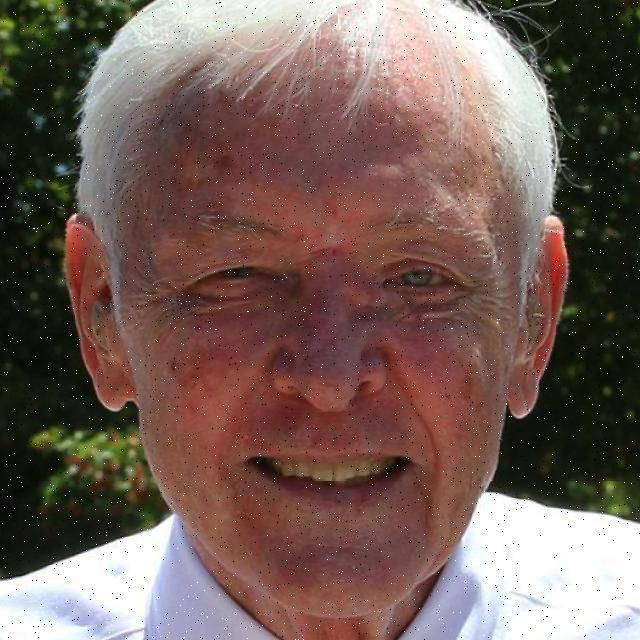puffy_eyes: (195, 286, 286, 309), (391, 293, 458, 309)
